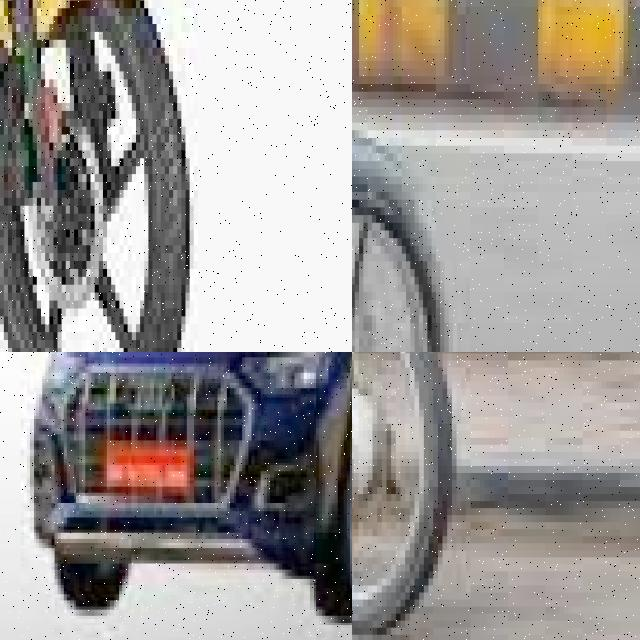bike: (0, 0, 198, 352), (352, 0, 453, 352), (352, 352, 466, 640)
car: (15, 352, 352, 640)
